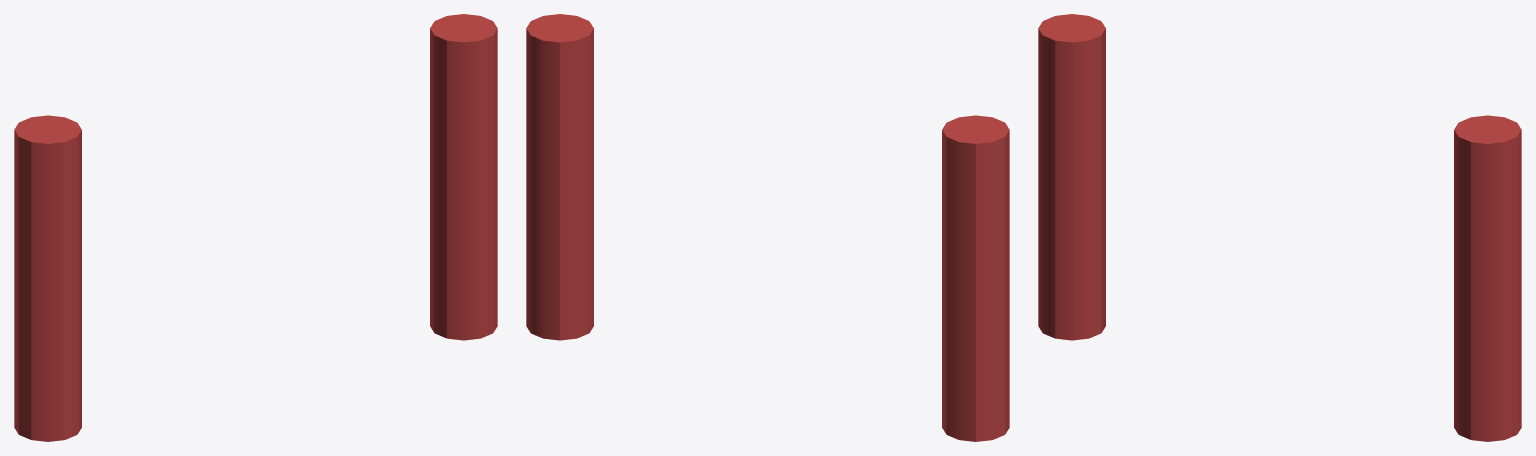
File: WoodColumn.fbx
3 views of the same model, side by side, from view 1: azimuth 30°, elevation 25°; view 2: azimuth 150°, elevation 25°; view 3: azimuth 330°, elevation 25° (orthographic).
Visible parts, largest first — view 1: WoodColumn; view 2: WoodColumn; view 3: WoodColumn.
Part boxes in pixels (x1,y1,x2,y2): WoodColumn: (14,14,497,441); WoodColumn: (526,14,1009,441); WoodColumn: (1038,14,1521,441).
Bounding box in the file's own units: 123 × 73.98 × 15.21.
Materials: 1 (1 with a texture image).
